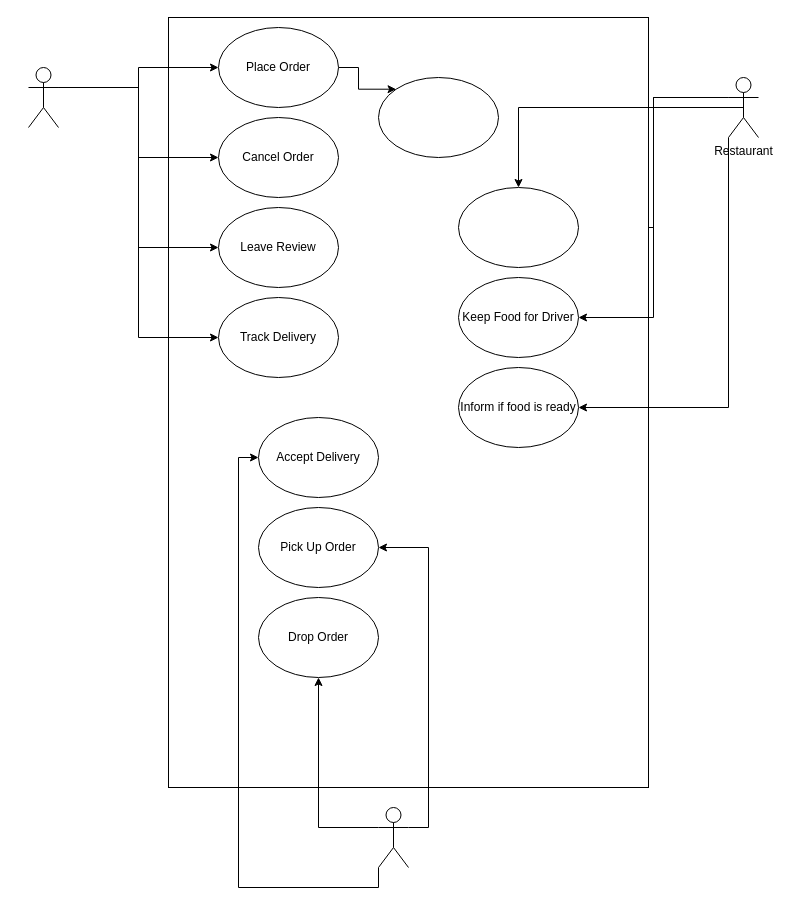
Image size: 790x913. Some labels were removed from this diagram. The shapes that lost their labels are listed below. From the top down, each one's centre as x and y in pixels, then its label:
At [43,97]: "Customer".
At [438,117]: "Pay for the order".
At [518,227]: "Make Food".
At [393,837]: "Actor".
